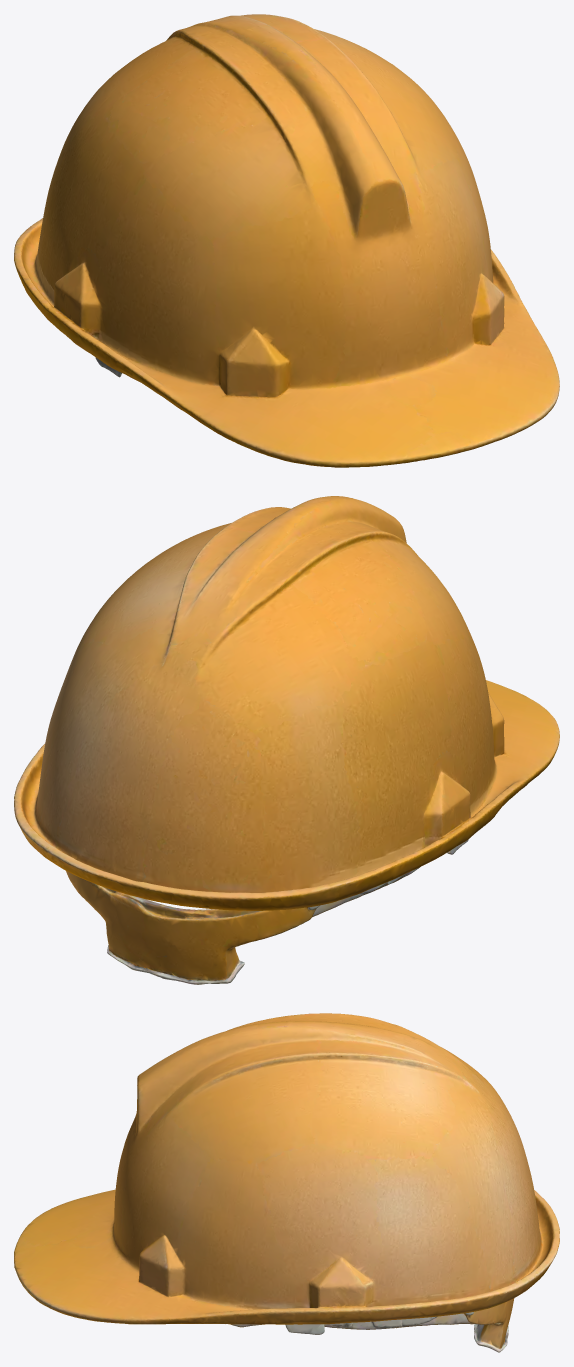
Rendered from helmet.glb.
The picture shows the model from 3 angles, top to bottom: view 1: azimuth 30°, elevation 25°; view 2: azimuth 150°, elevation 25°; view 3: azimuth 270°, elevation 25°; orthographic projection. The views are drawn at different scales.
Parts seen in each view (by area): view 1: input; view 2: input; view 3: input.
Boxes of the visible parts, <box> form: input: <box>14,14,559,467</box>; input: <box>14,496,559,984</box>; input: <box>14,1013,559,1352</box>.
Bounding box in the file's own units: 0.7165 × 0.6271 × 1.
Materials: 1 (1 with a texture image).
